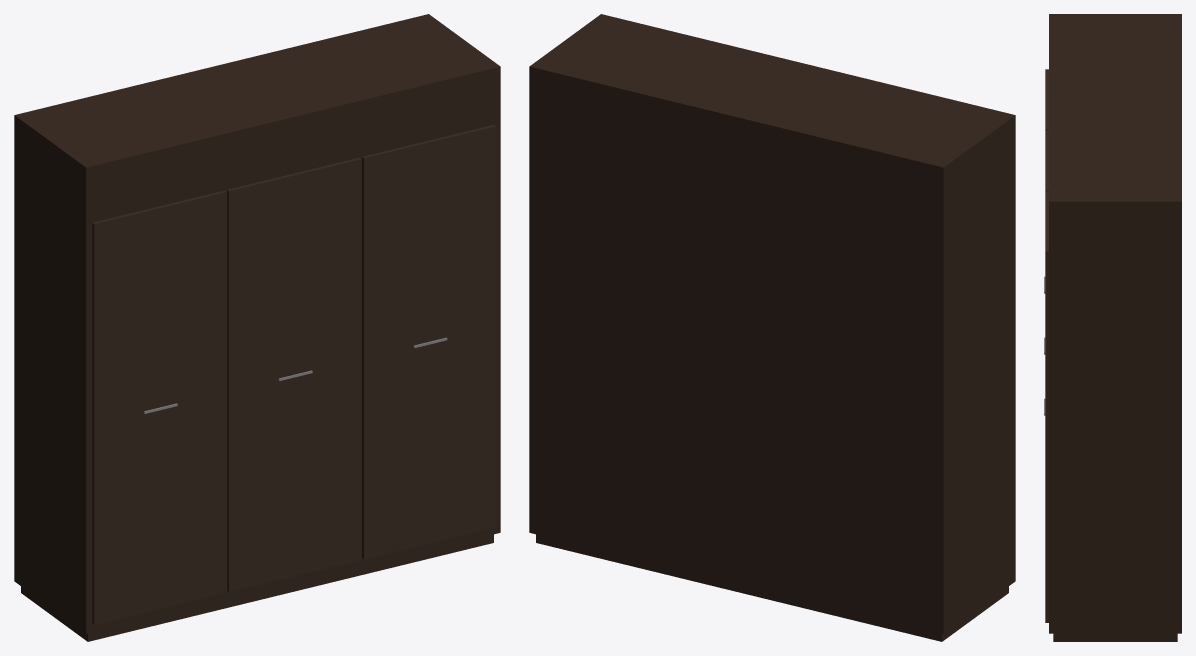
File: mocan-80.glb
3 views of the same model, side by side, from view 1: azimuth 30°, elevation 25°; view 2: azimuth 150°, elevation 25°; view 3: azimuth 270°, elevation 25° (orthographic). The views are drawn at different scales.
Visible parts, largest first — view 1: furniture; view 2: furniture; view 3: furniture.
Boxes of the visible parts, left/top/right/bottom form: furniture: left=14, top=14, right=500, bottom=641; furniture: left=529, top=14, right=1015, bottom=641; furniture: left=1044, top=14, right=1181, bottom=641.
Size of the model in its own units: 2 by 2.2 by 0.622.
